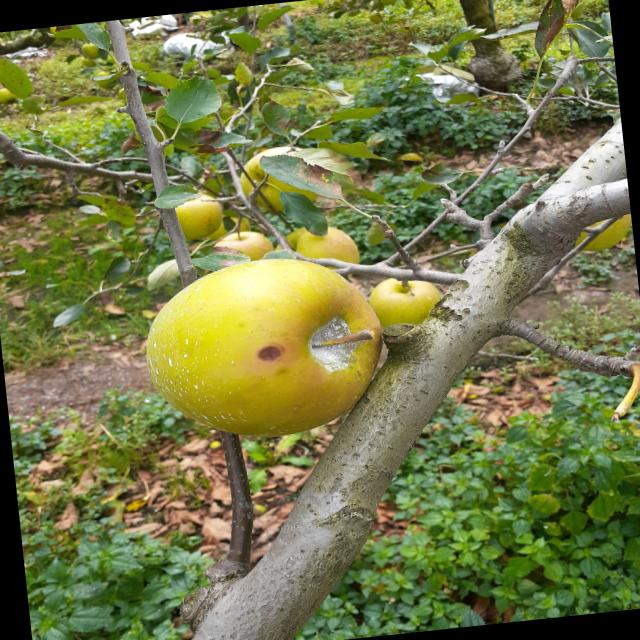rotten: (125, 235, 407, 469)
